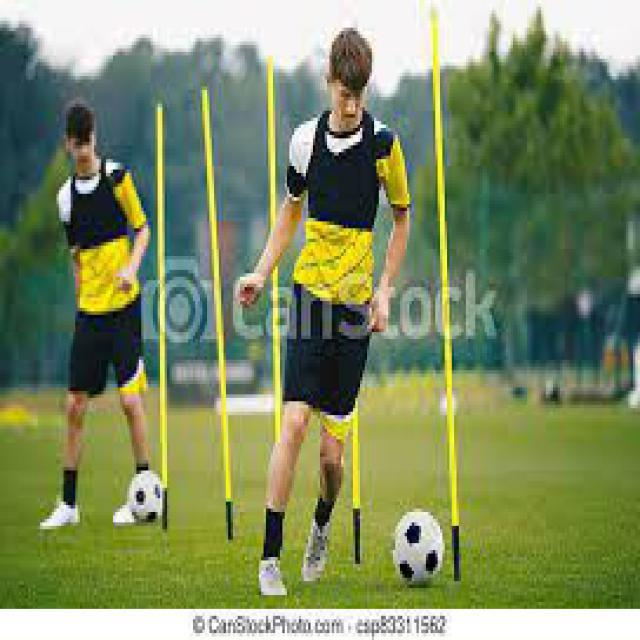ball: (388, 504, 448, 592), (126, 468, 165, 524)
